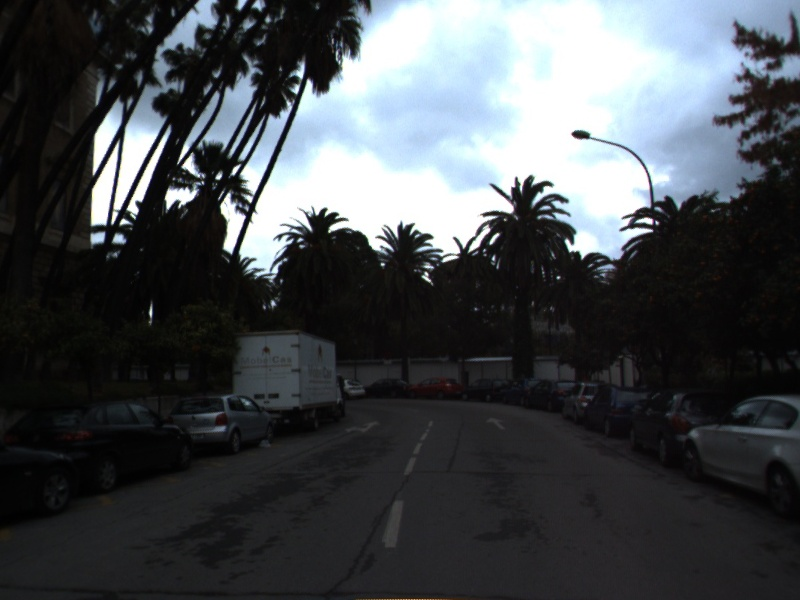STRAIGHT: (484, 415, 507, 431)
STRAIGHT_LEFT: (343, 419, 383, 435)
